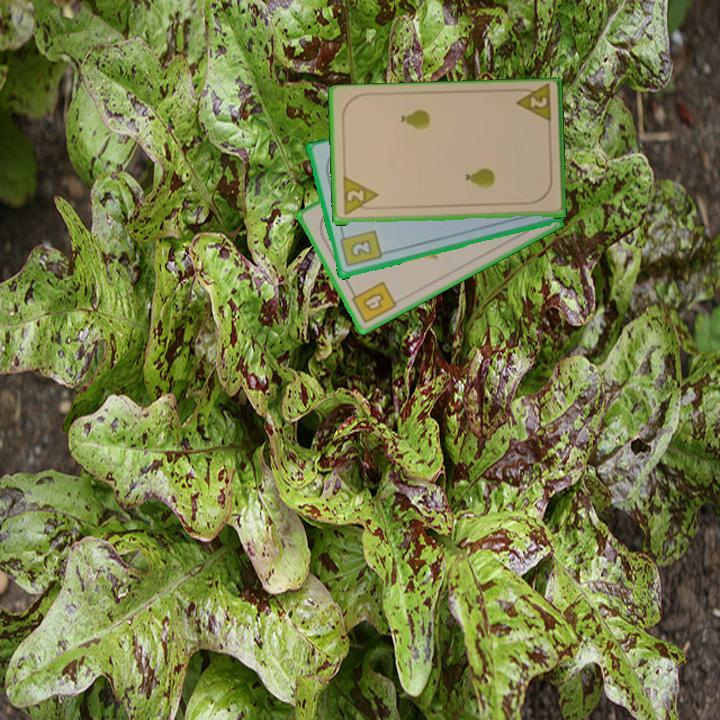2b: (336, 227, 384, 270)
2p: (512, 83, 554, 127), (339, 175, 381, 218)
4b: (346, 278, 399, 327)
